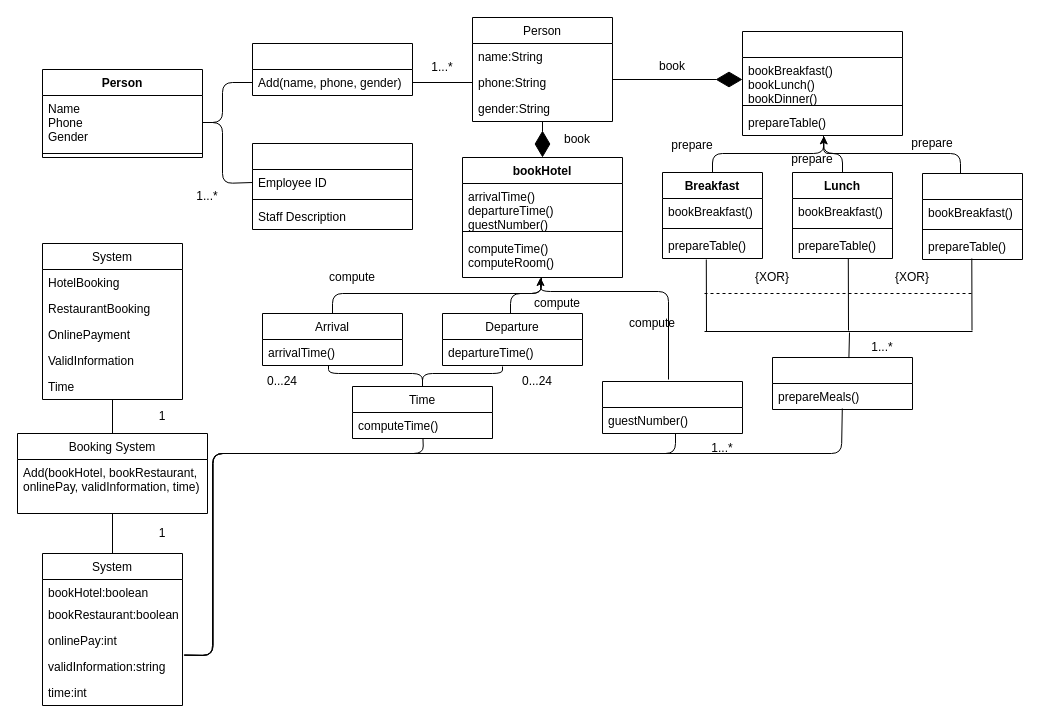
Image size: 1040x726. Some labels were removed from this diagram. The shapes that lost their labels are listed below. From the top down, each one's box as (x1, y1, x2, y2) in pixels, then its label:
(252, 42, 412, 96): Customer
(742, 30, 902, 136): bookRestaurant
(252, 142, 412, 230): Hotel Staff
(922, 172, 1022, 260): Dinner
(772, 356, 912, 410): prepareTable
(602, 380, 742, 434): Guests
